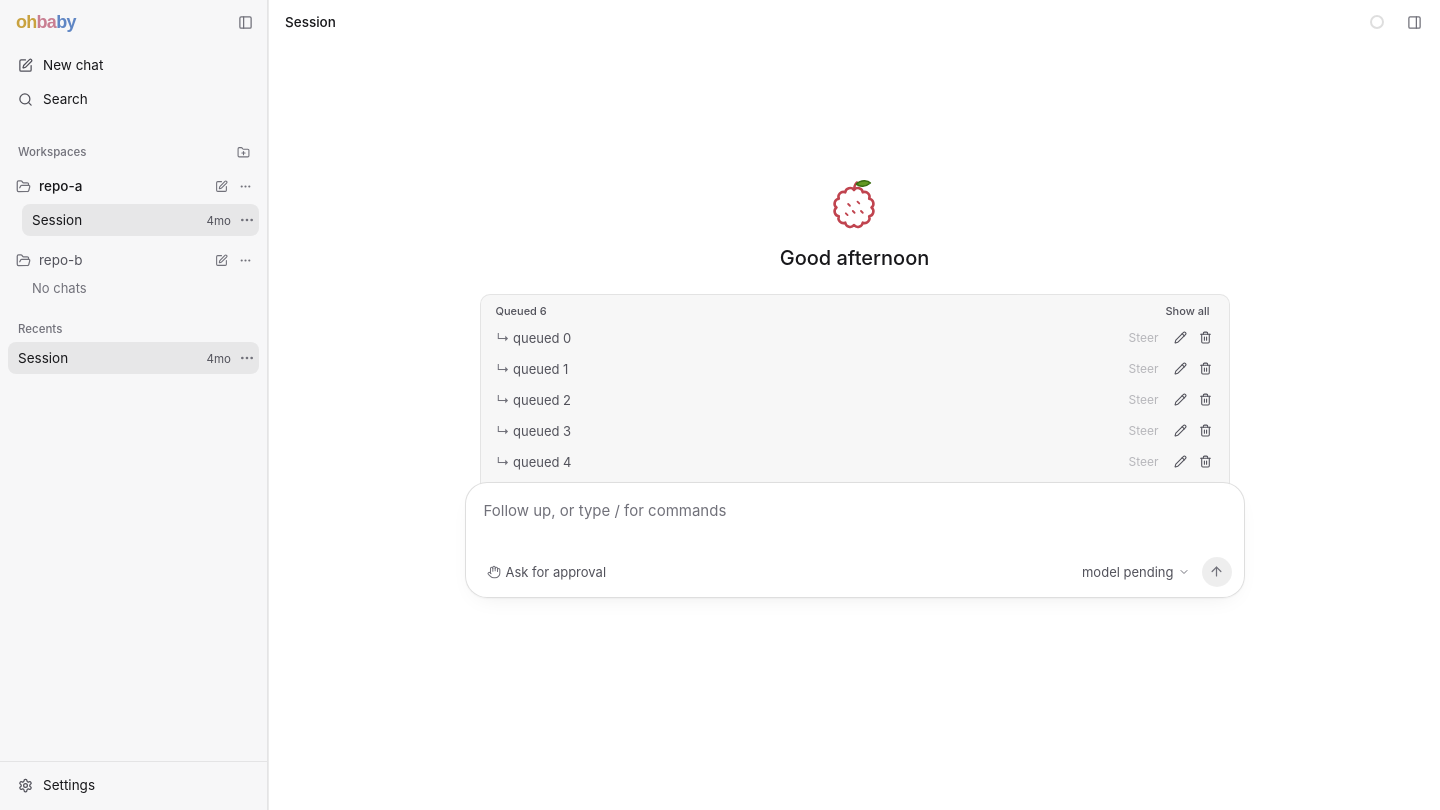
OhbabyWebApp slash command interactions › renders an adaptive queued list and expands after five items
Expected: the number of elements with class "ohb-prompt-queue-item" is 5, [490, 322, 1220, 352]; [490, 354, 1220, 384]; [490, 384, 1220, 414]; [490, 416, 1220, 446]; [490, 446, 1220, 476]
Click the button "Show all": (1188, 310) [1162, 302, 1214, 320]
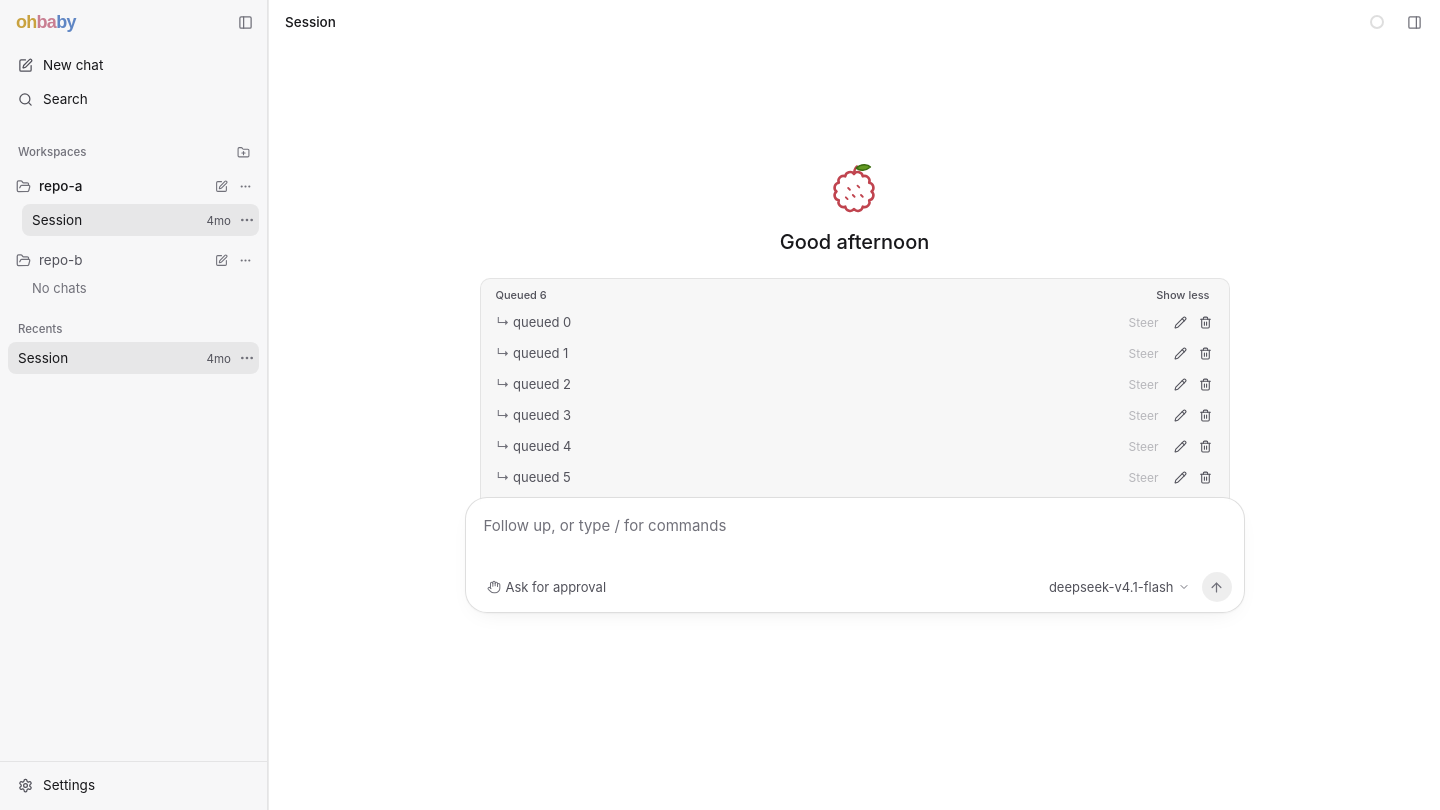
Expected: the number of elements with class "ohb-prompt-queue-item" is 6, [490, 307, 1220, 337]; [490, 338, 1220, 368]; [490, 369, 1220, 399]; [490, 400, 1220, 430]; [490, 431, 1220, 461]; [490, 462, 1220, 492]
